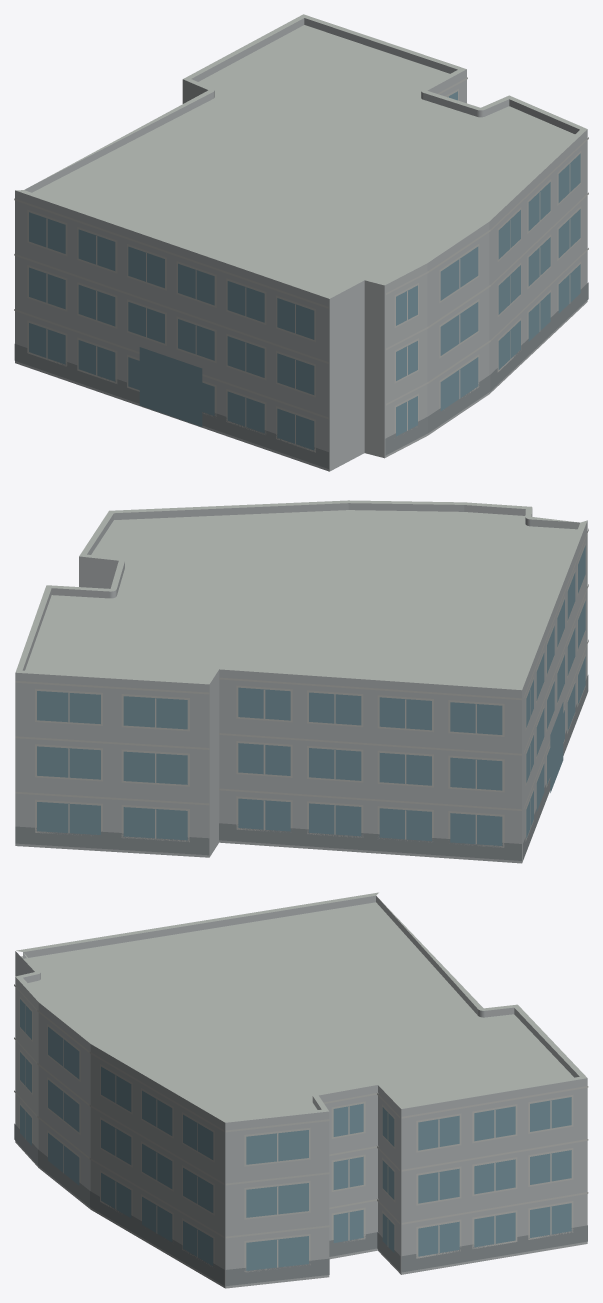
The model's file is public-1ccade06-11ed-4dcd-a428-15818f93475e.glb.
The picture shows the model from 3 angles, top to bottom: view 1: azimuth 30°, elevation 25°; view 2: azimuth 150°, elevation 25°; view 3: azimuth 270°, elevation 25°; orthographic projection. The views are drawn at different scales.
Visible parts, largest first — view 1: public-1ccade06-11ed-4dcd-a428-15818f93475e; view 2: public-1ccade06-11ed-4dcd-a428-15818f93475e; view 3: public-1ccade06-11ed-4dcd-a428-15818f93475e.
Part boxes in pixels (left/top/right/bottom): public-1ccade06-11ed-4dcd-a428-15818f93475e: left=14, top=14, right=588, bottom=471; public-1ccade06-11ed-4dcd-a428-15818f93475e: left=15, top=500, right=588, bottom=863; public-1ccade06-11ed-4dcd-a428-15818f93475e: left=14, top=892, right=588, bottom=1288.
Bounding box in the file's own units: 27.41 × 9.15 × 28.76.
